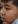mask_weared_incorrect: (1, 2, 18, 24)
